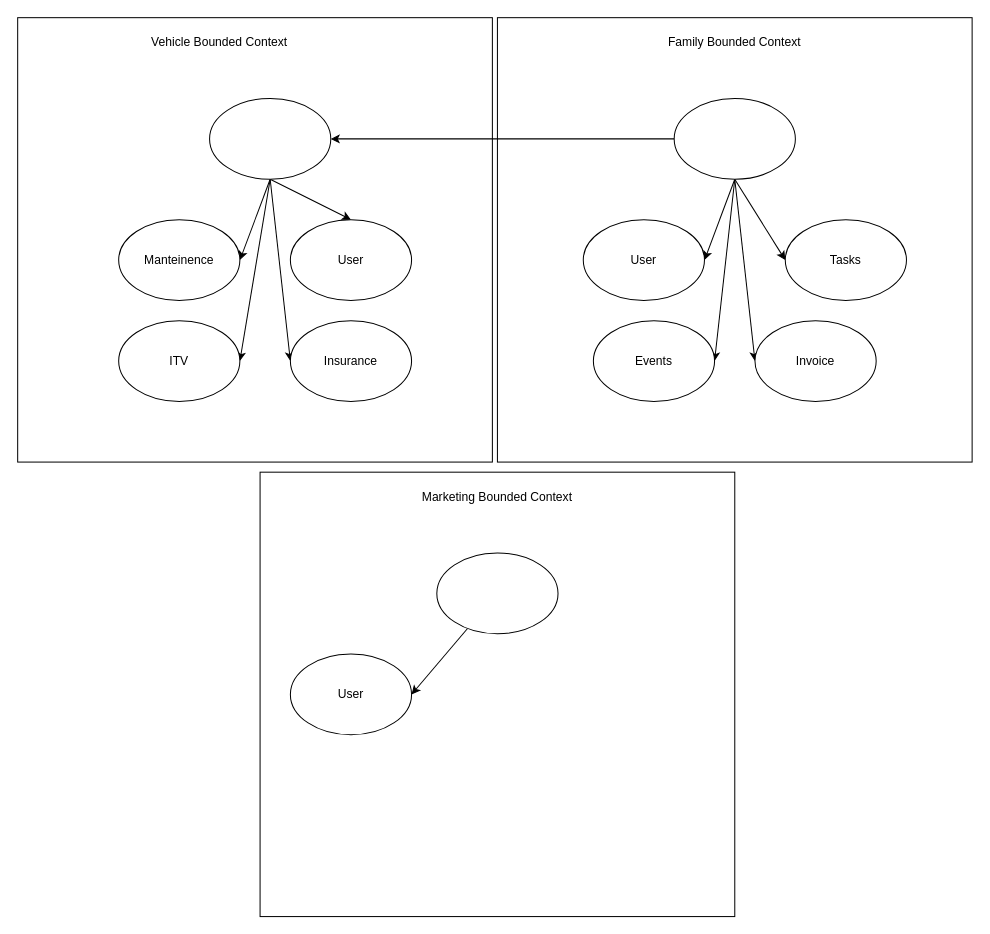
The diagram is 990 pixels wide and 934 high, and some of its shapes have lost their labels. The box of each missing label's shape, as (x1, y1, x2, y2) in pixels:
Family: (673, 97, 795, 179)
Notification: (436, 552, 558, 634)
Vehicle: (209, 97, 331, 179)
